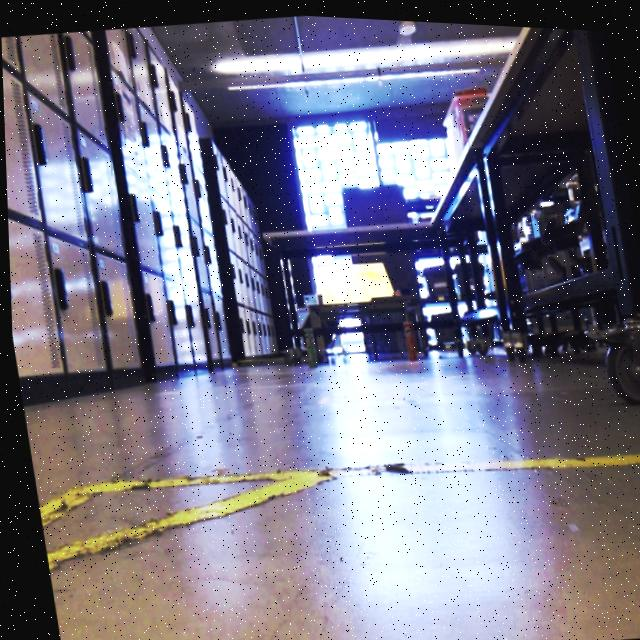greenpringles: (286, 306, 324, 378)
redpringles: (388, 301, 428, 374)
